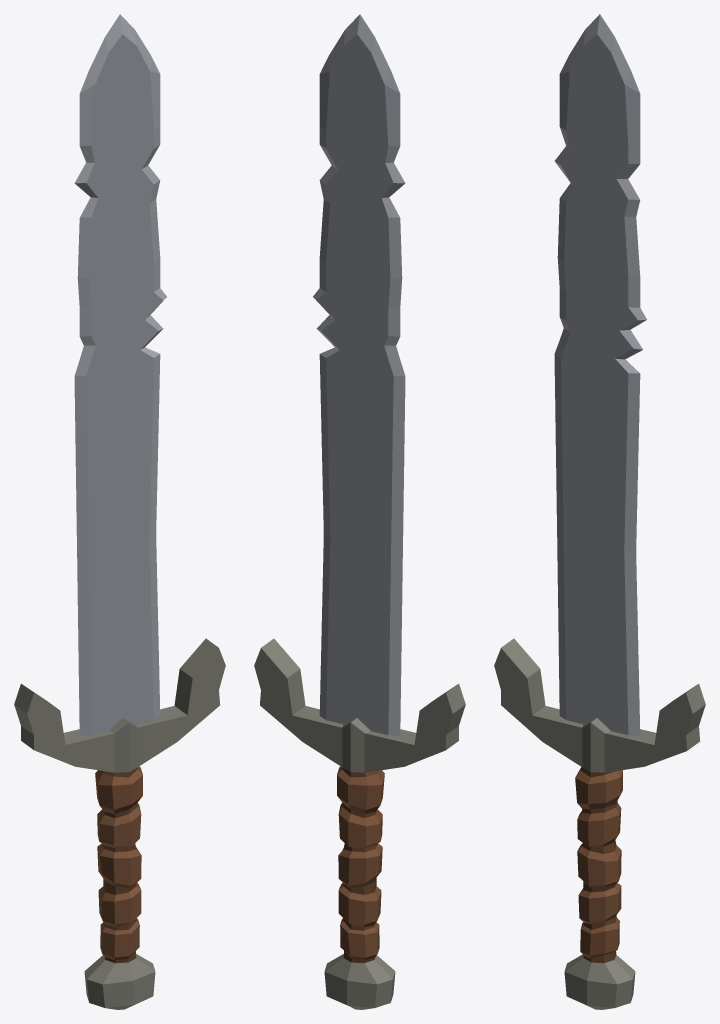
File: Sword.glb
The picture shows the model from 3 angles, left to right: view 1: azimuth 30°, elevation 25°; view 2: azimuth 150°, elevation 25°; view 3: azimuth 330°, elevation 25°; orthographic projection.
Visible parts, largest first — view 1: Steel, LightSteel, DarkSteel, LightWood, DarkWood; view 2: Steel, LightSteel, DarkSteel, LightWood, DarkWood; view 3: Steel, LightSteel, DarkSteel, LightWood, DarkWood.
Boxes of the visible parts, x1,y1,x2,y2 form: Steel: (86, 34, 163, 734); LightSteel: (74, 14, 166, 735); DarkSteel: (14, 638, 225, 1009); LightWood: (95, 766, 142, 960); DarkWood: (101, 767, 137, 963); Steel: (316, 34, 393, 734); LightSteel: (313, 14, 405, 735); DarkSteel: (254, 638, 465, 1009); LightWood: (337, 766, 384, 960); DarkWood: (342, 767, 378, 963); Steel: (561, 34, 637, 734); LightSteel: (554, 14, 646, 735); DarkSteel: (494, 638, 705, 1009); LightWood: (575, 767, 622, 958); DarkWood: (580, 767, 617, 963).
Size of the model in its own units: 1.14 by 5.45 by 0.2611.
